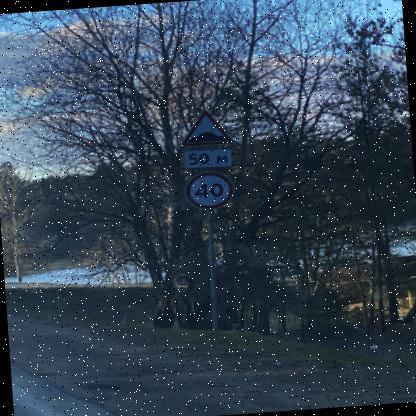speedlimit: (182, 170, 232, 209)
